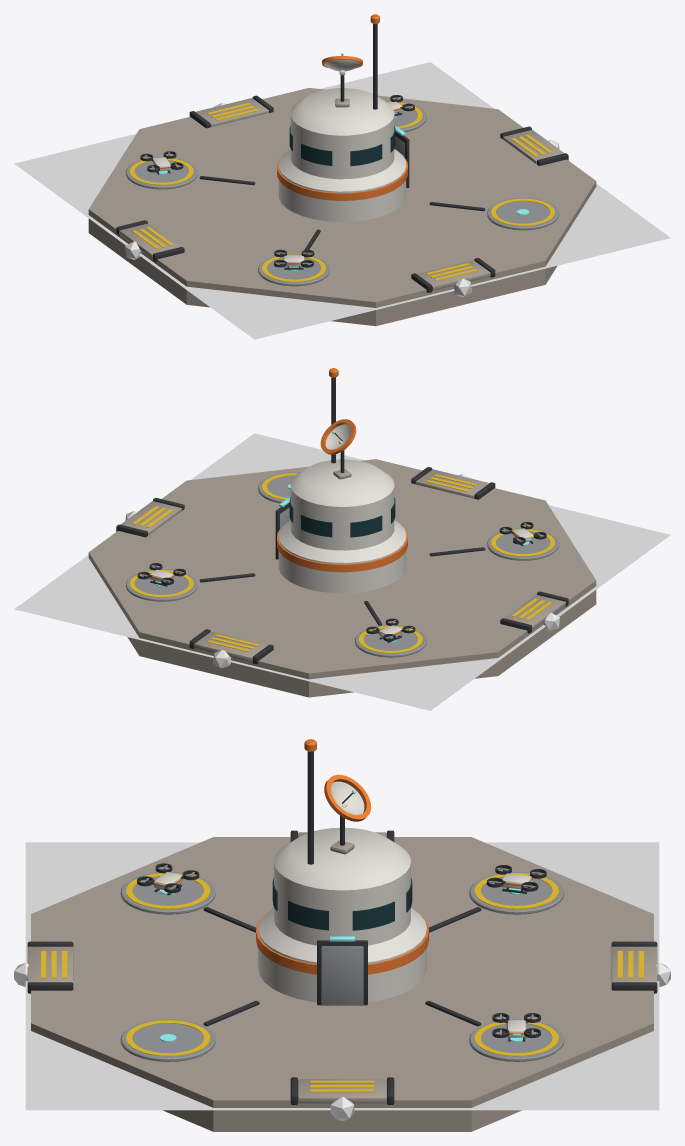
File: drone_hub_3x3.gltf
3 renders of one model, top to bottom at view 1: azimuth 30°, elevation 25°; view 2: azimuth 150°, elevation 25°; view 3: azimuth 270°, elevation 25°, orthographic. The views are drawn at different scales.
Visible parts, largest first — view 1: DroneHub, %P%Footprint, %V%AnchorOut.003+, %V%AnchorOut.002+, %V%AnchorOut.001+, %V%AnchorOut+; view 2: DroneHub, %P%Footprint, %V%AnchorOut.002+, %V%AnchorOut.003+, %V%AnchorOut.001+, %V%AnchorOut+; view 3: DroneHub, %P%Footprint, %V%AnchorOut+, %V%AnchorOut.002+, %V%AnchorOut.003+.
Boxes of the visible parts, x1,y1,x2,y2 form: DroneHub: [88, 14, 596, 326]; %P%Footprint: [14, 62, 670, 339]; %V%AnchorOut.003+: [411, 258, 495, 292]; %V%AnchorOut.002+: [189, 95, 273, 128]; %V%AnchorOut.001+: [116, 220, 184, 261]; %V%AnchorOut+: [500, 126, 568, 165]; DroneHub: [88, 368, 596, 697]; %P%Footprint: [14, 433, 670, 710]; %V%AnchorOut.002+: [189, 629, 273, 664]; %V%AnchorOut.003+: [411, 467, 495, 499]; %V%AnchorOut.001+: [500, 591, 568, 633]; %V%AnchorOut+: [116, 498, 184, 537]; DroneHub: [31, 739, 653, 1131]; %P%Footprint: [25, 842, 659, 1110]; %V%AnchorOut+: [290, 1077, 394, 1104]; %V%AnchorOut.002+: [611, 941, 657, 993]; %V%AnchorOut.003+: [27, 941, 73, 993].
Bounding box in the file's own units: 6.23 × 2.85 × 6.22.
